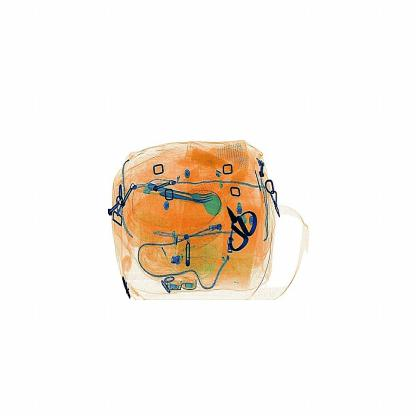gun: (218, 200, 262, 254)
